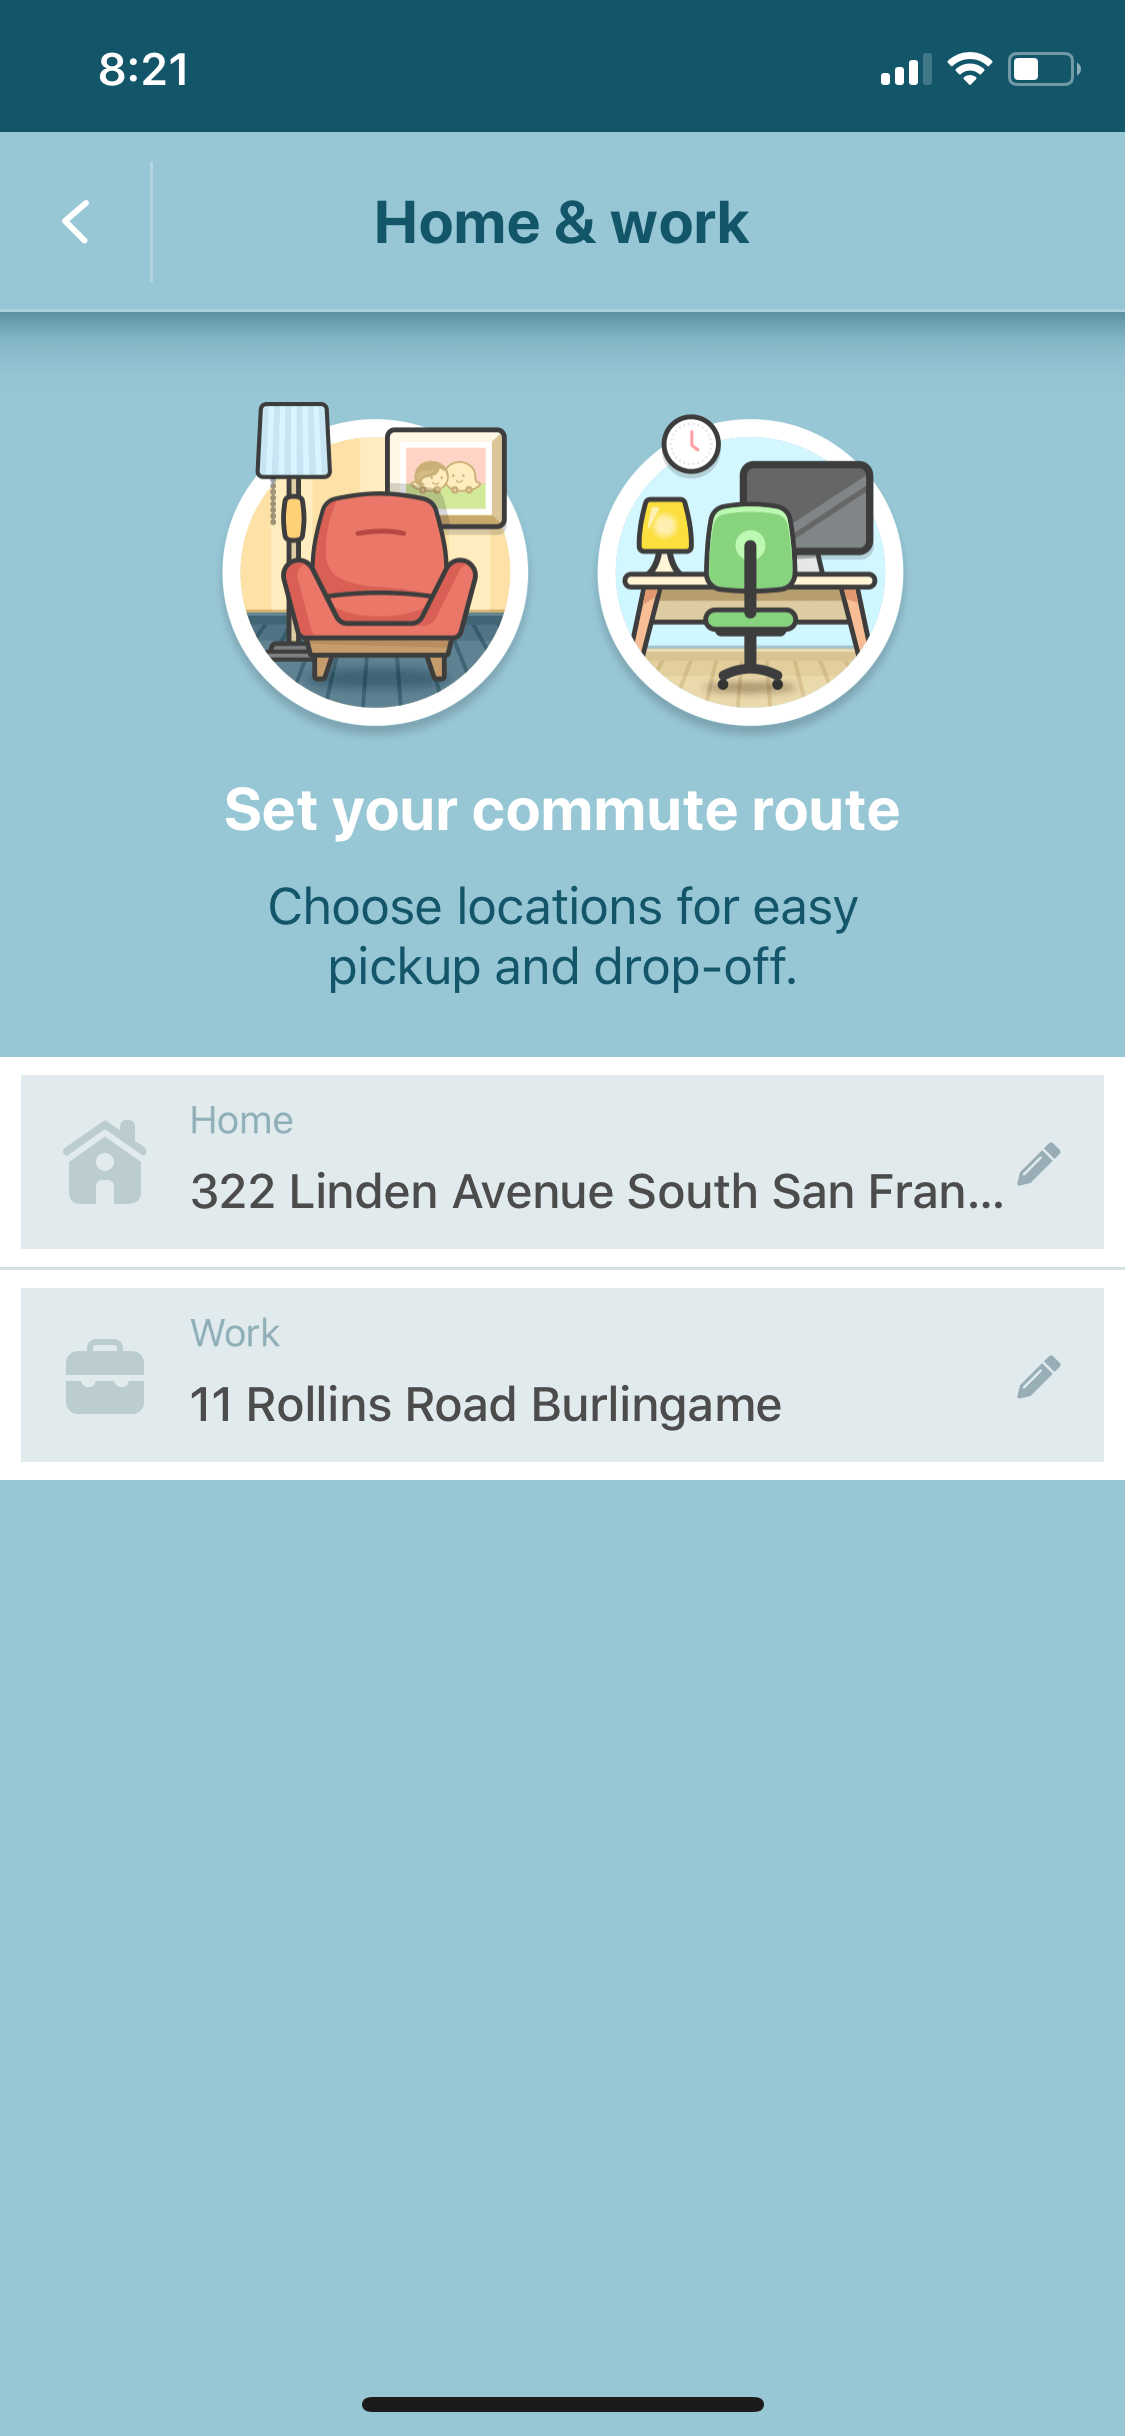Buttons: (11, 144, 145, 284), (998, 1327, 1077, 1414), (1002, 1115, 1077, 1204)
